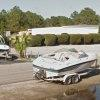Boat: (28, 49, 99, 95)
